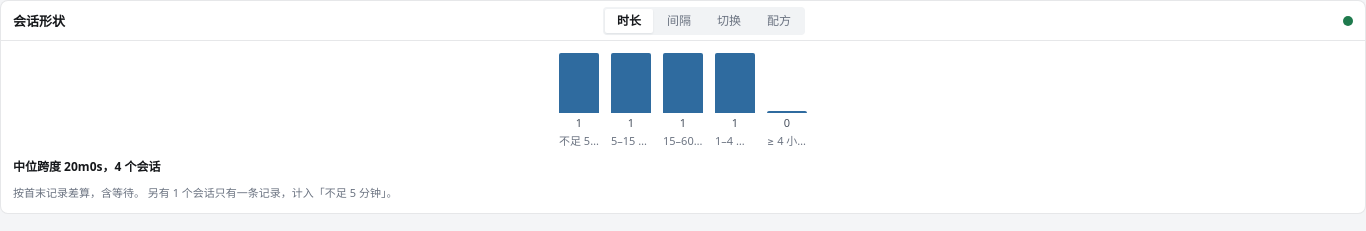
Test: SessionShapePanel（会话形状卡） › 间隔档：六桶与「N 对相邻会话」读数
Click the tab "间隔". click: point(679, 20)
box: [655,8,703,32]
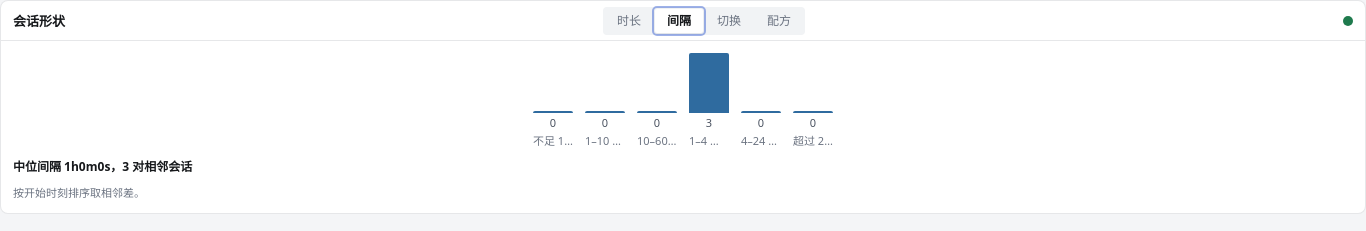
Check: the text "中位间隔 1h0m0s，3 对相邻会话" is shown, box [13,158,192,175]
